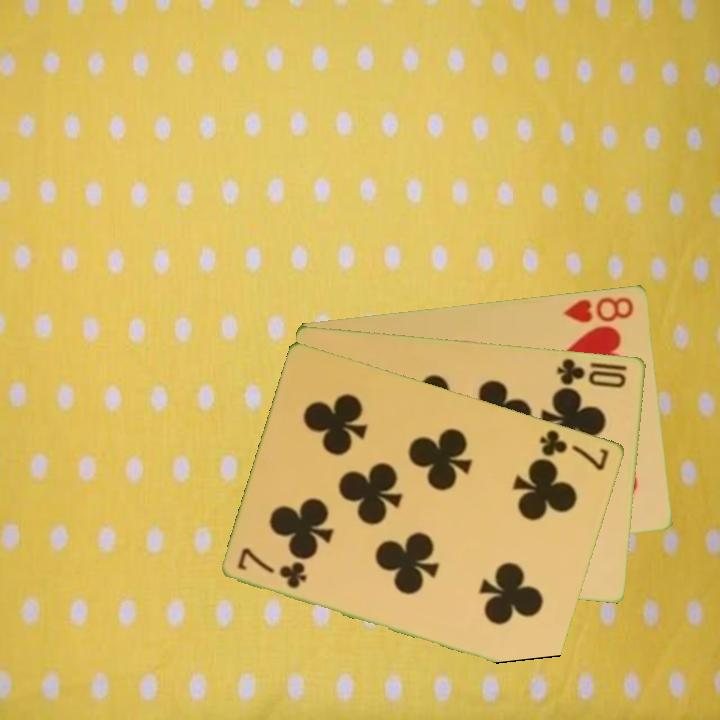10c: (554, 354, 630, 391)
7c: (234, 544, 310, 592), (536, 426, 612, 473)
8h: (561, 293, 637, 325)
